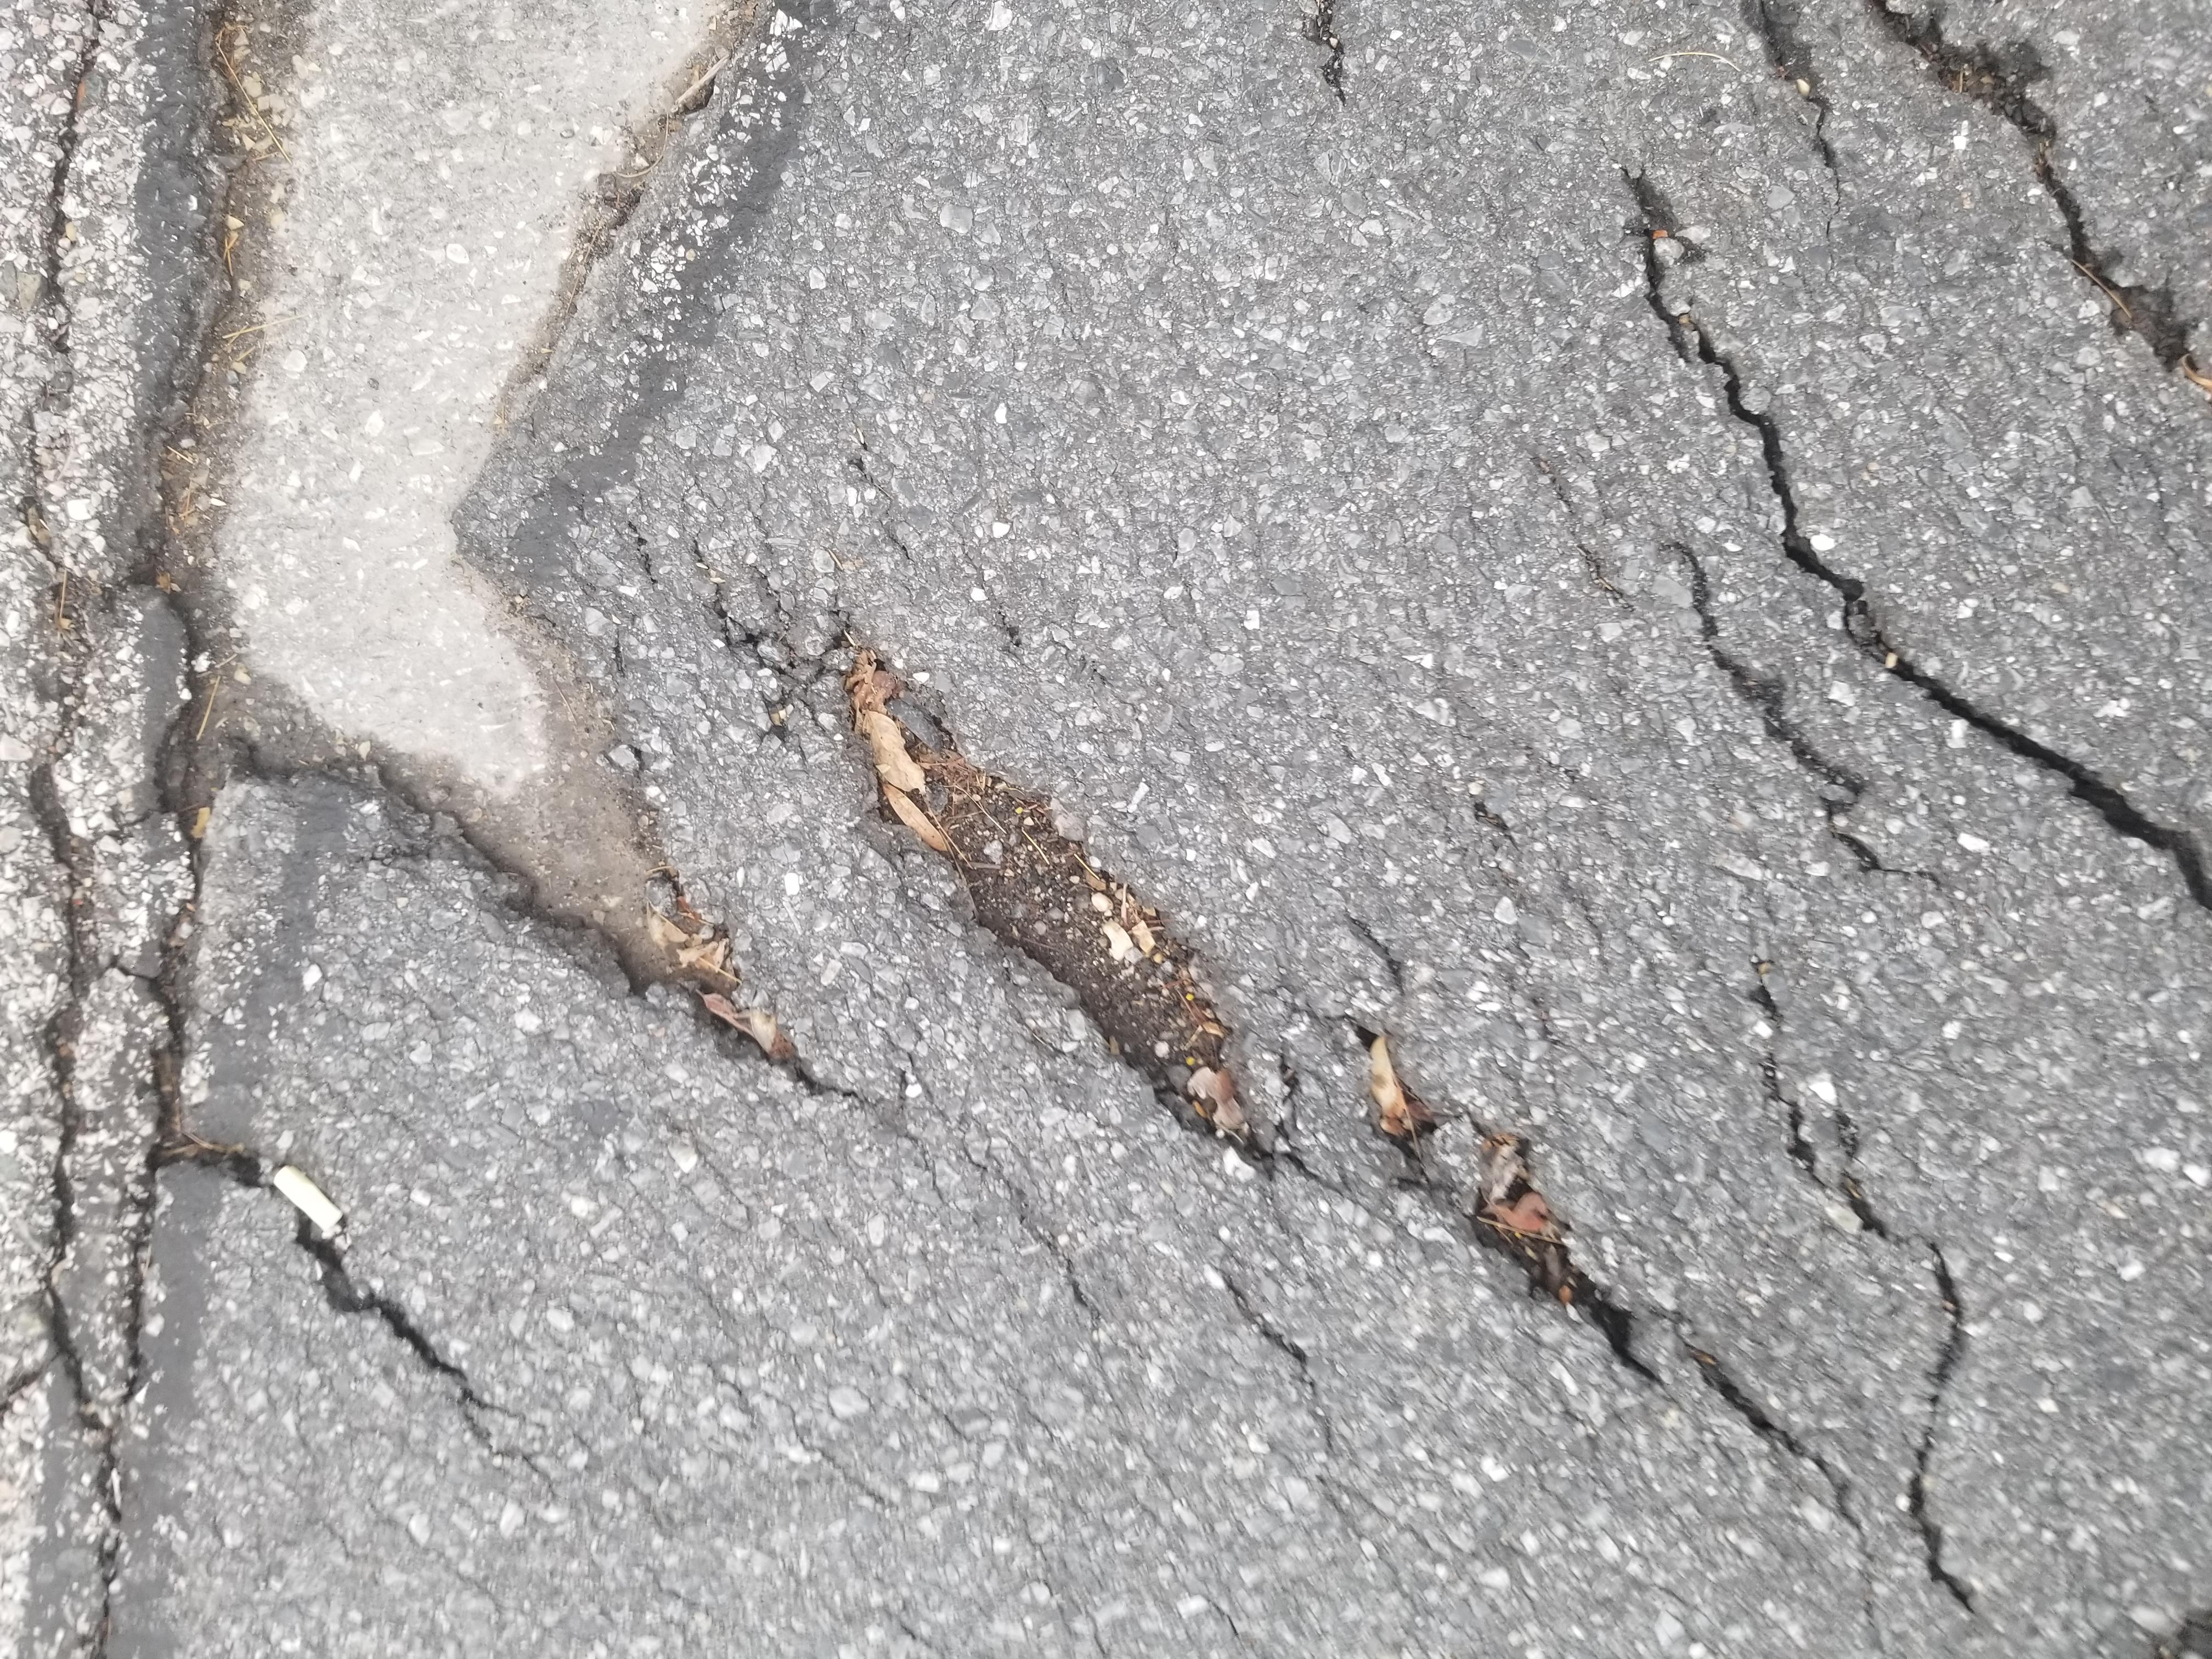crack: (0, 1300, 909, 1570), (0, 58, 772, 359), (336, 3, 2212, 80), (1705, 1387, 2212, 1659), (1353, 1218, 1993, 1382), (1010, 1223, 1521, 1427), (1010, 1439, 1360, 1649), (183, 1251, 467, 1406), (1952, 1288, 2212, 1375)
pothole: (812, 91, 2212, 605), (563, 647, 1388, 941), (286, 1025, 756, 1232)
